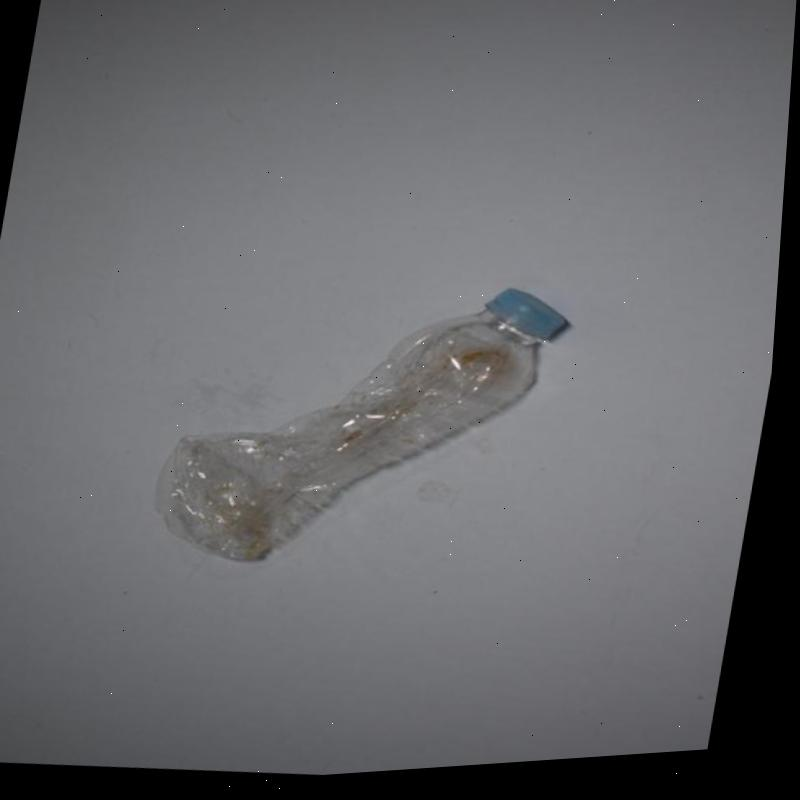botella: (146, 256, 582, 605)
